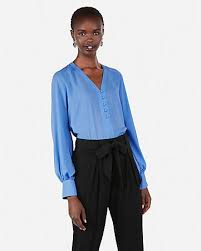C_blouse: (42, 51, 148, 196)
